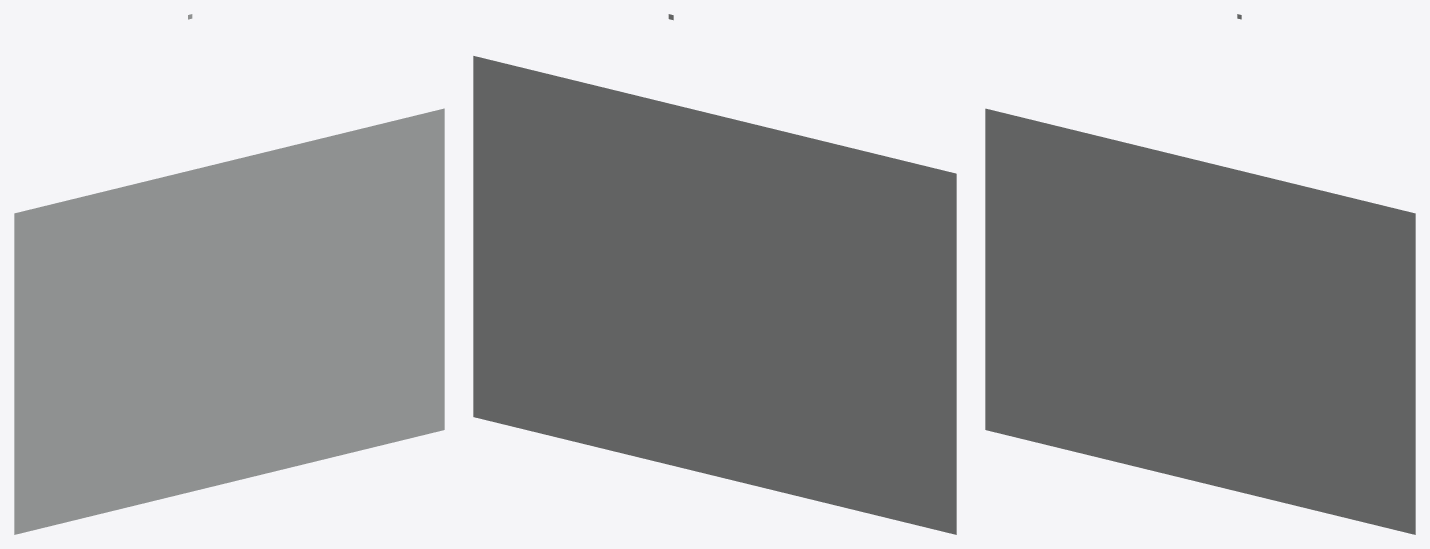
File: MainMeshLaptop_9_1_GeomSubset_2.obj
The picture shows the model from 3 angles, left to right: view 1: azimuth 30°, elevation 25°; view 2: azimuth 150°, elevation 25°; view 3: azimuth 330°, elevation 25°; orthographic projection. The views are drawn at different scales.
Parts seen in each view (by area): view 1: MainMeshLaptop_9_1_GeomSubset_2; view 2: MainMeshLaptop_9_1_GeomSubset_2; view 3: MainMeshLaptop_9_1_GeomSubset_2.
Boxes of the visible parts, bbox=[...] form: MainMeshLaptop_9_1_GeomSubset_2: bbox=[14, 14, 444, 534]; MainMeshLaptop_9_1_GeomSubset_2: bbox=[473, 14, 956, 534]; MainMeshLaptop_9_1_GeomSubset_2: bbox=[985, 14, 1415, 534].
Size of the model in its own units: 0.1249 by 0.1219 by 0.0197.
